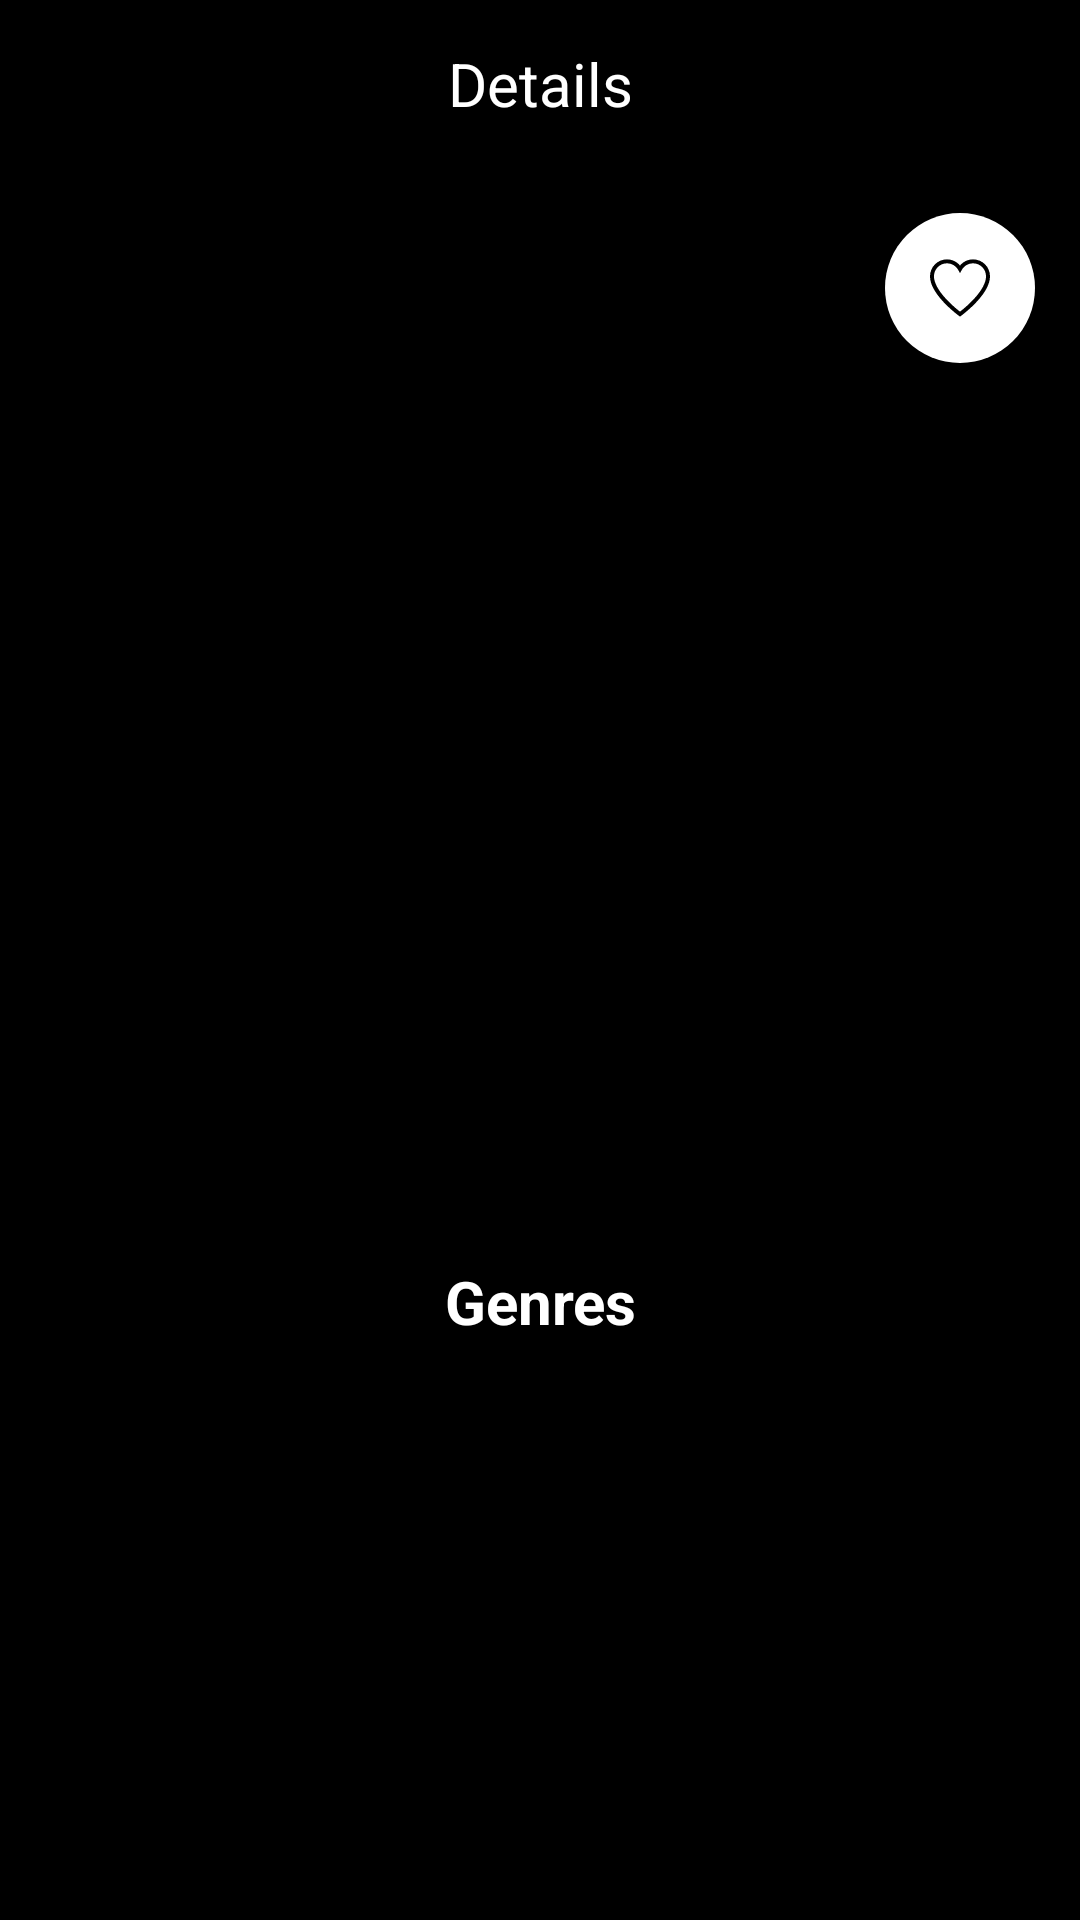

Where to tap for icons on this 1080×1920 app screen, as (x=x, y=y):
unfavorite: (x=960, y=288)
